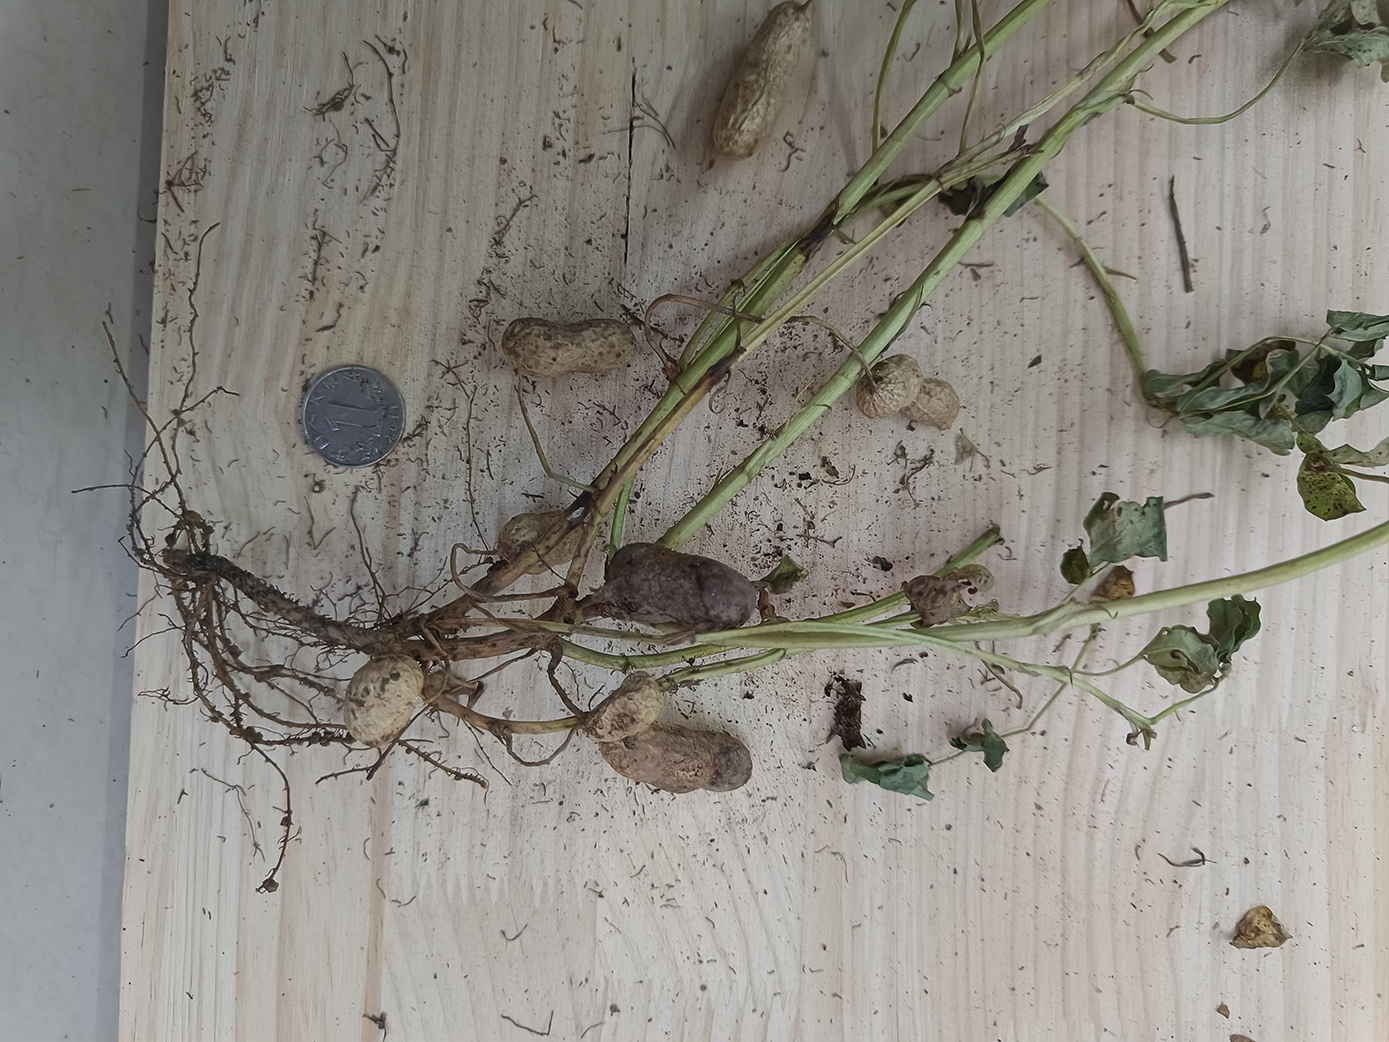h: (707, 2, 812, 162), (499, 316, 638, 384), (857, 354, 960, 432), (345, 653, 421, 748), (500, 510, 593, 574), (584, 672, 662, 745)
l: (603, 542, 756, 634), (599, 725, 752, 794)
